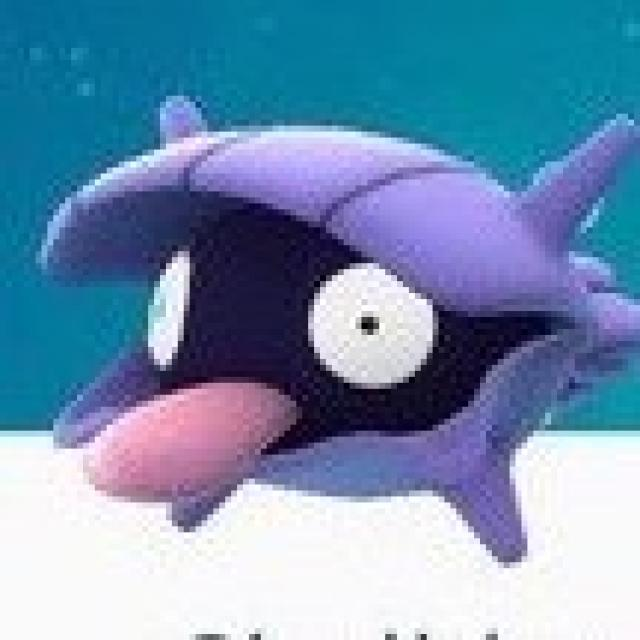Shellder: (34, 87, 637, 580)
